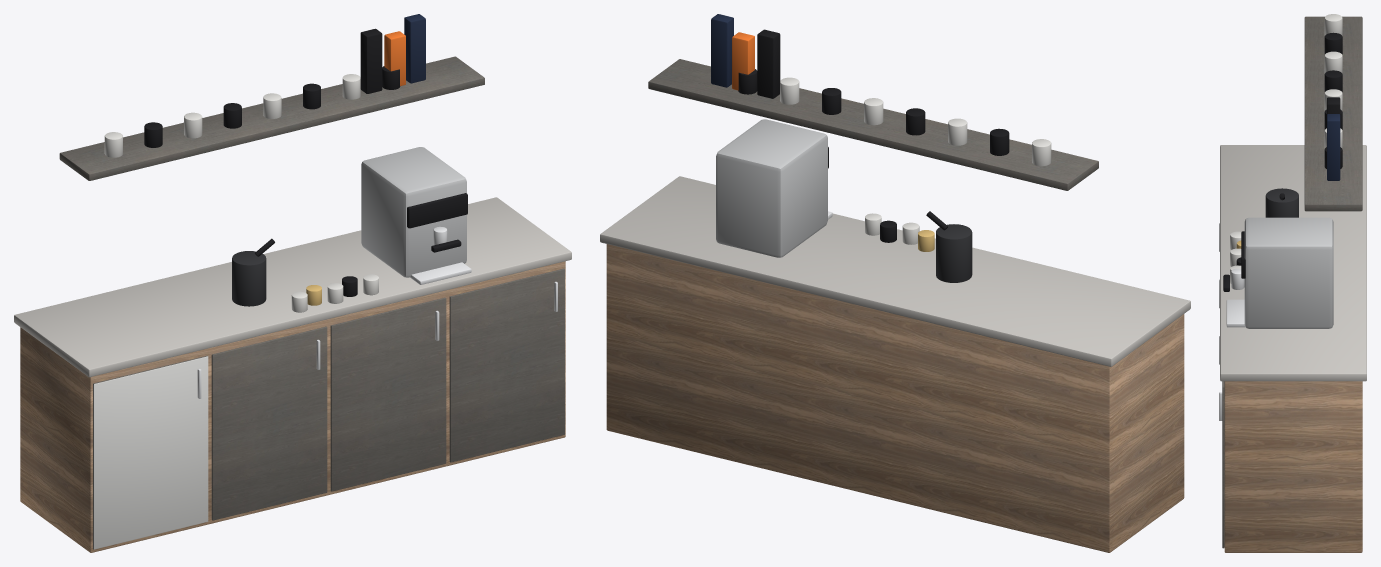
File: angolo-caffe.glb
3 views of the same model, side by side, from view 1: azimuth 30°, elevation 25°; view 2: azimuth 150°, elevation 25°; view 3: azimuth 270°, elevation 25° (orthographic). The views are drawn at different scales.
Parts seen in each view (by area): view 1: angolo-caffe; view 2: angolo-caffe; view 3: angolo-caffe.
Boxes of the visible parts, x1=… form: angolo-caffe: x1=14, y1=14, x2=571, y2=552; angolo-caffe: x1=600, y1=14, x2=1190, y2=552; angolo-caffe: x1=1219, y1=14, x2=1366, y2=552.
Bounding box in the file's own units: 2.44 × 1.94 × 0.665.
Materials: 12 (2 with a texture image).
